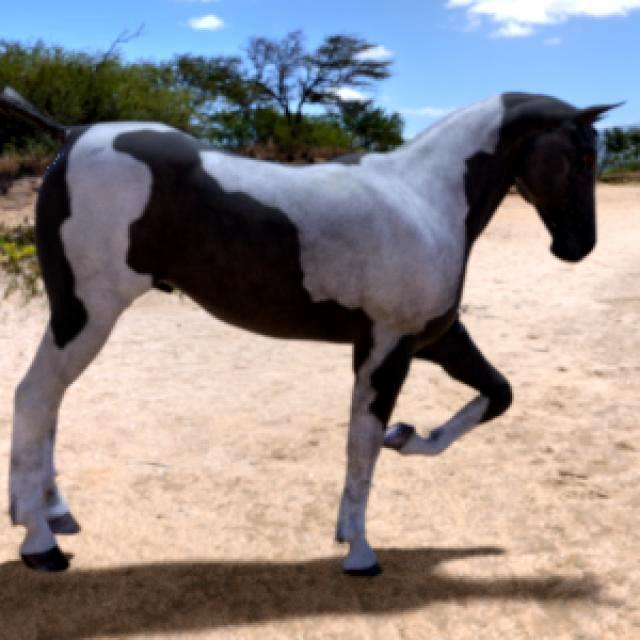horse: (1, 89, 614, 574)
